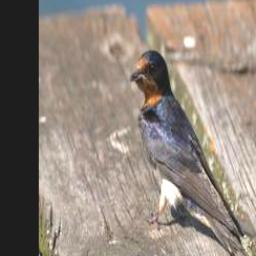Swallow: (129, 46, 256, 256)
